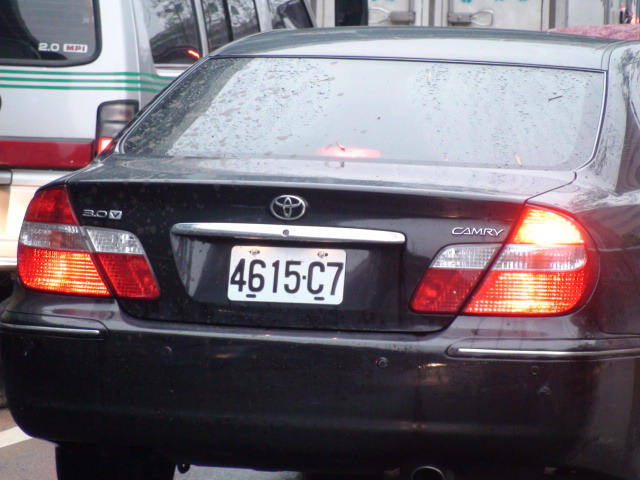plate: (228, 243, 350, 309)
